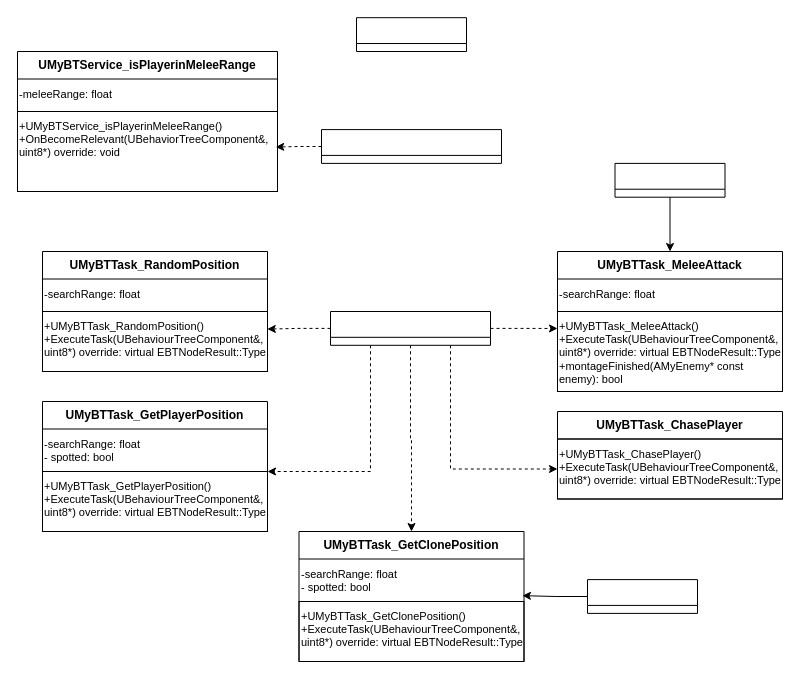
Image size: 800x679. Some labels were removed from this diagram. The box of each missing label's shape, as (x1, y1, x2, y2) in pixels:
AAbility Clone: (586, 579, 698, 613)
AMyEnemy: (614, 162, 725, 197)
Behaviour Tree: (356, 17, 466, 52)
UBTService_BlackboardBase: (320, 129, 502, 163)
UBTTask_BlackboardBase: (330, 310, 490, 345)
